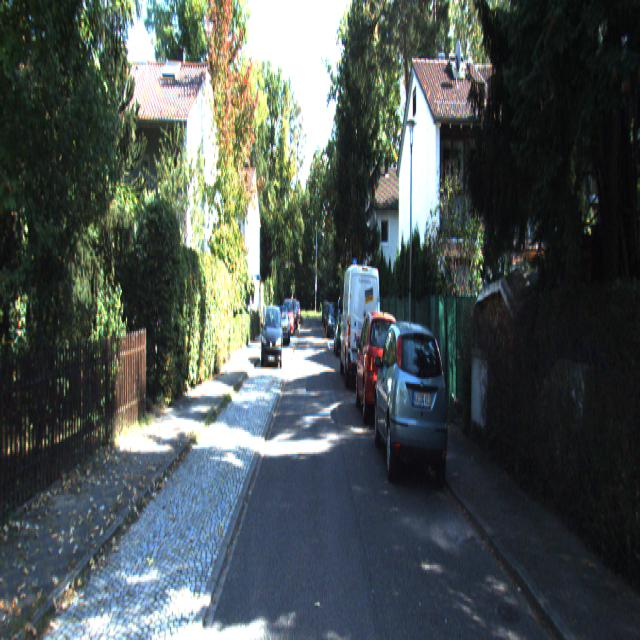Car: (372, 316, 450, 497), (355, 307, 406, 432), (340, 261, 380, 396), (262, 306, 284, 375)
